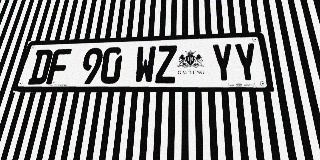0: (99, 47, 123, 84)
9: (79, 48, 104, 84)
D: (27, 49, 54, 85)
F: (46, 49, 72, 84)
W: (134, 46, 156, 84)
Y: (233, 42, 260, 83), (211, 43, 236, 83)
Z: (155, 45, 177, 83)
